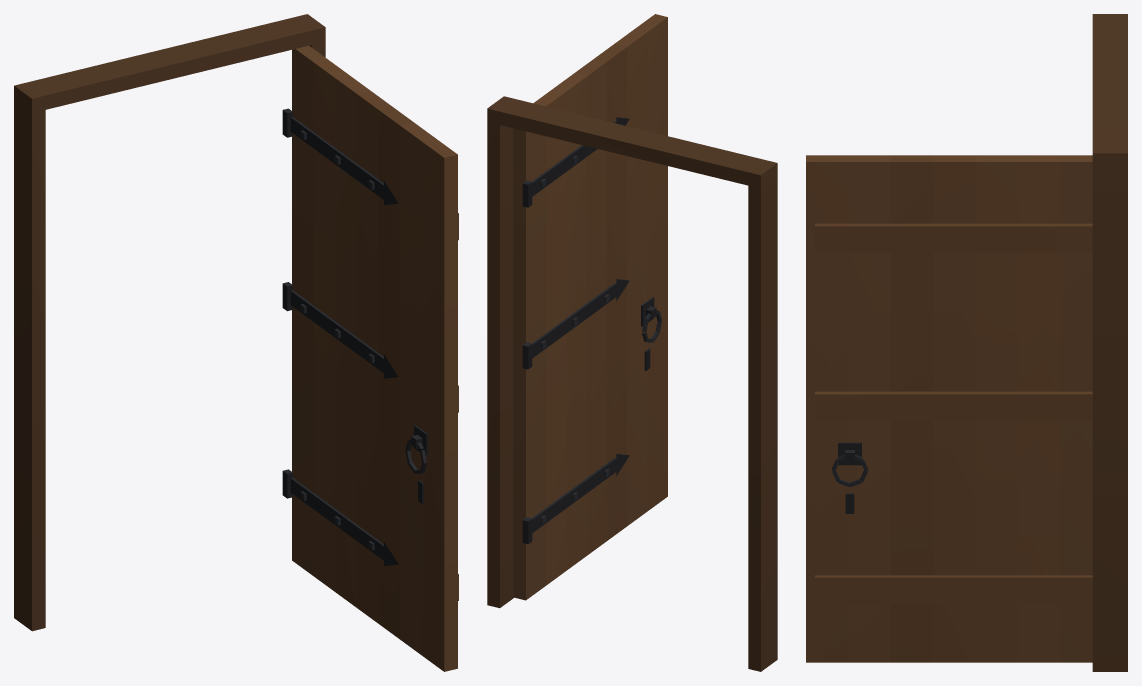
Rendered from door.oak_slim_open_left.oak.glb.
3 renders of one model, left to right at view 1: azimuth 30°, elevation 25°; view 2: azimuth 150°, elevation 25°; view 3: azimuth 270°, elevation 25°, orthographic. The views are drawn at different scales.
Visible parts, largest first — view 1: door_oak_slim_open_left_oak; view 2: door_oak_slim_open_left_oak; view 3: door_oak_slim_open_left_oak.
Part boxes in pixels (bbox=[...]): door_oak_slim_open_left_oak: bbox=[14, 14, 458, 671]; door_oak_slim_open_left_oak: bbox=[487, 14, 777, 671]; door_oak_slim_open_left_oak: bbox=[806, 14, 1127, 671].
Size of what is drawn, in the model's own units: 1.5 by 2.6 by 1.46.
